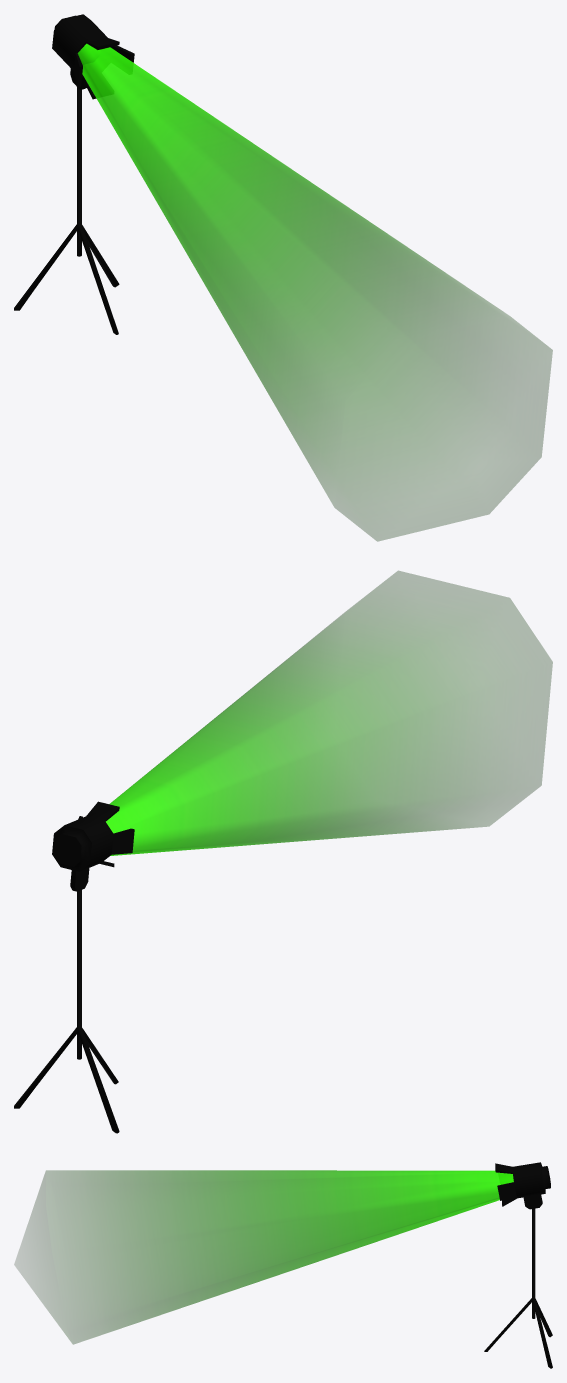
The model's file is 2947dee0-edc1-4e80-b7b0-91e0ed78502a.glb.
The picture shows the model from 3 angles, top to bottom: view 1: azimuth 30°, elevation 25°; view 2: azimuth 150°, elevation 25°; view 3: azimuth 270°, elevation 25°; orthographic projection. The views are drawn at different scales.
Parts seen in each view (by area): view 1: LightingStandOnGreen; view 2: LightingStandOnGreen; view 3: LightingStandOnGreen.
Boxes of the visible parts, box(x1,y1,x2,y2) form: LightingStandOnGreen: box(14, 14, 552, 541); LightingStandOnGreen: box(14, 571, 552, 1133); LightingStandOnGreen: box(14, 1162, 552, 1368).
Size of what is drawn, in the model's own units: 2.58 by 3.41 by 8.91.
Materials: 2 (2 with a texture image).
